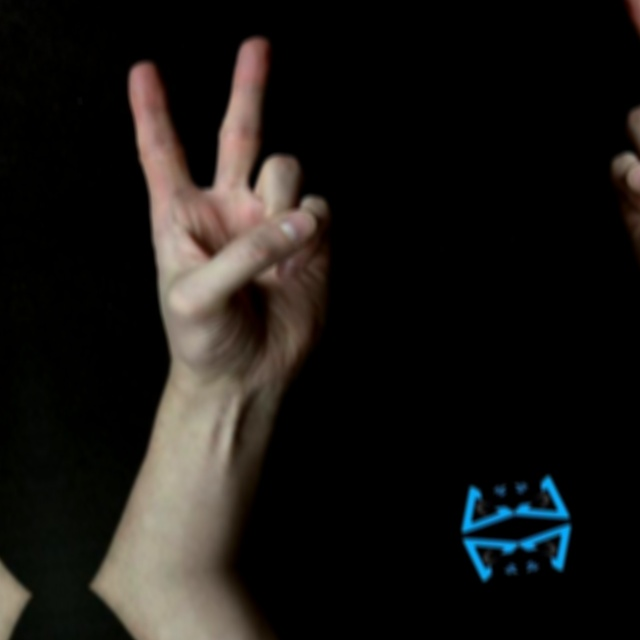Scissors: (126, 32, 360, 408)
